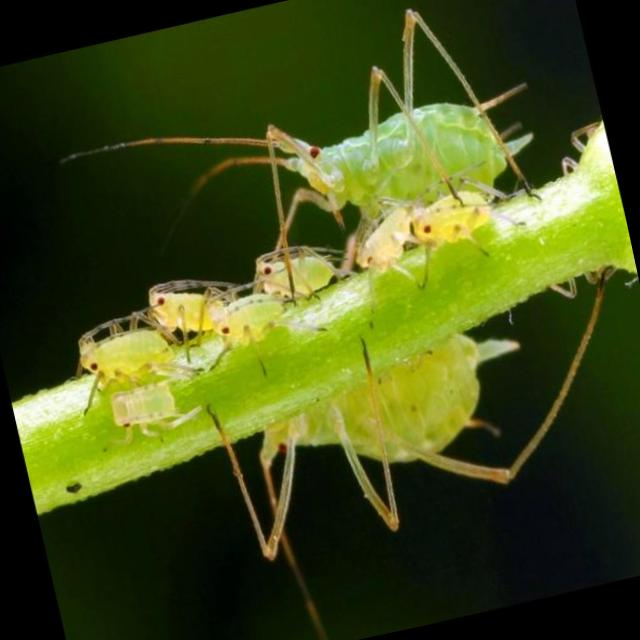aphid: (52, 12, 588, 312), (398, 158, 532, 270), (45, 300, 179, 400), (195, 270, 306, 362), (132, 258, 238, 348), (240, 226, 346, 314)
